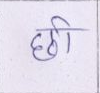i_matra: (53, 15, 76, 52)
